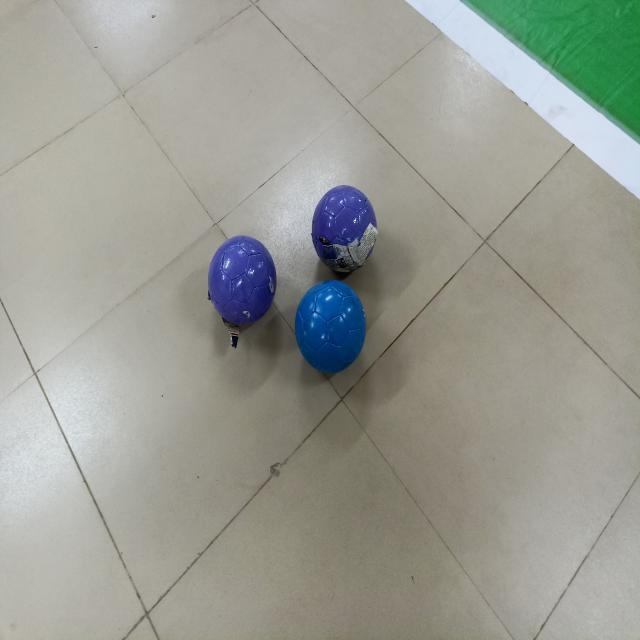blue_ball: (293, 276, 370, 384)
purple_ball: (308, 174, 386, 278), (207, 225, 276, 339)
